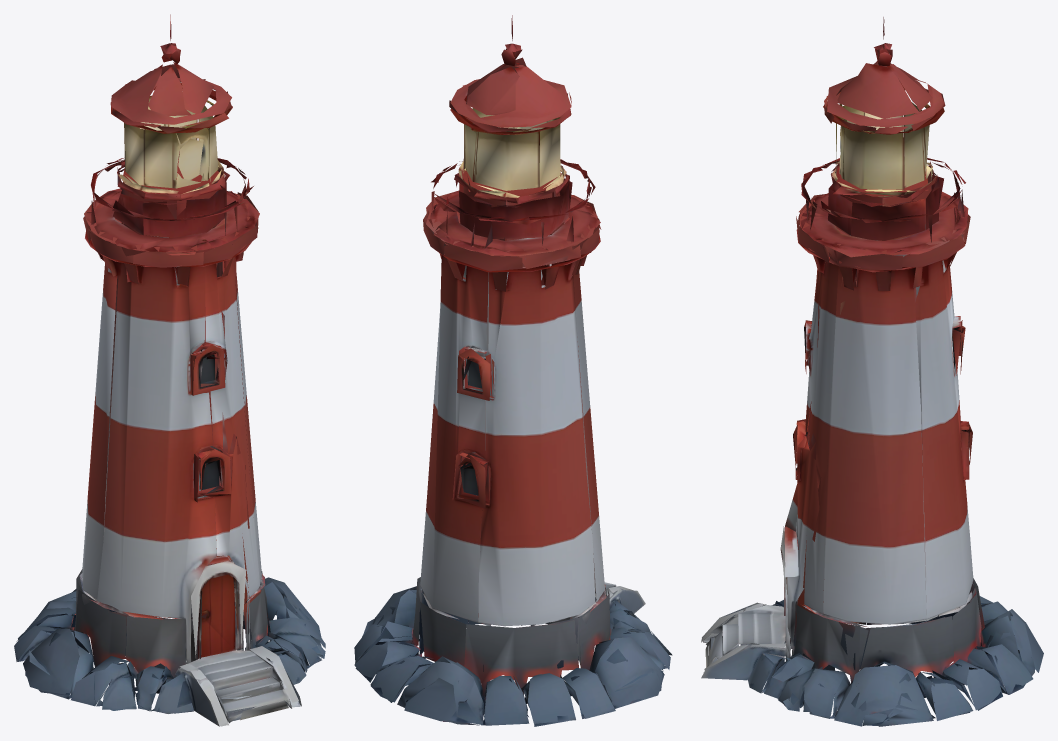
The model's file is lighthouse.glb.
3 renders of one model, left to right at view 1: azimuth 30°, elevation 25°; view 2: azimuth 150°, elevation 25°; view 3: azimuth 270°, elevation 25°, orthographic.
Parts seen in each view (by area): view 1: node_0; view 2: node_0; view 3: node_0.
Part boxes in pixels (box(x1,y1,x2,y2)): node_0: box(14, 14, 325, 726); node_0: box(354, 15, 672, 726); node_0: box(701, 17, 1043, 726).
Size of the model in its own units: 14.7 by 32.1 by 15.4.
Materials: 1 (1 with a texture image).
